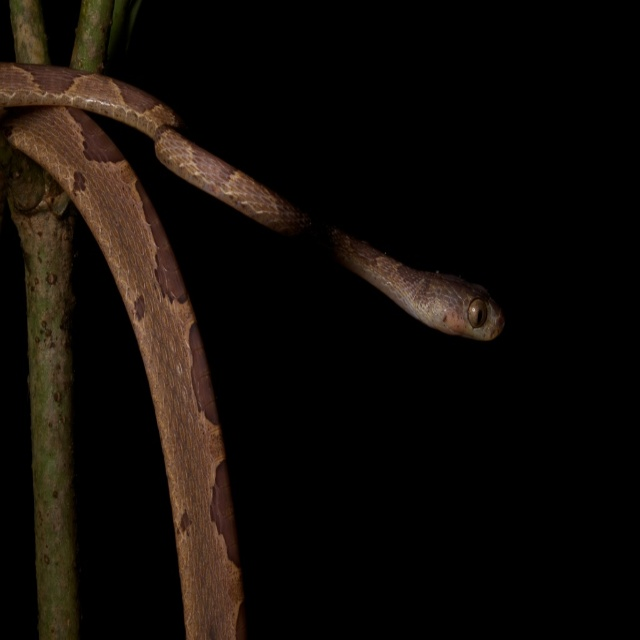Snake: (0, 60, 506, 639)
